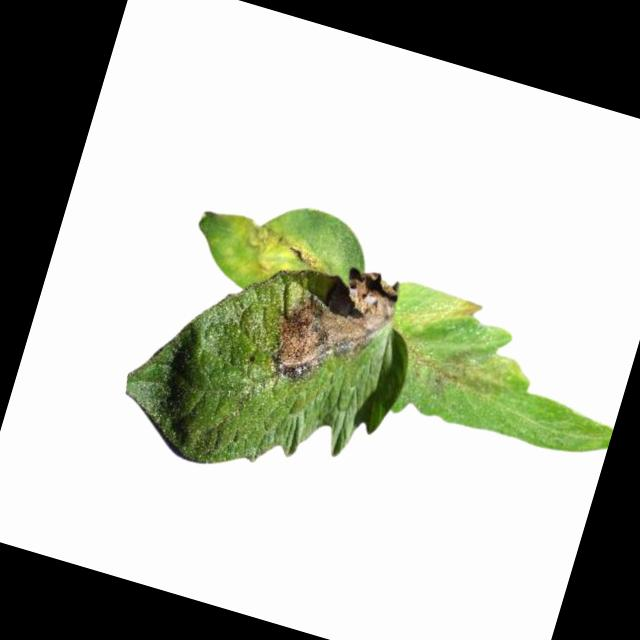Late_blight: (257, 249, 402, 407), (397, 330, 513, 418), (233, 218, 330, 290), (398, 284, 484, 346)
